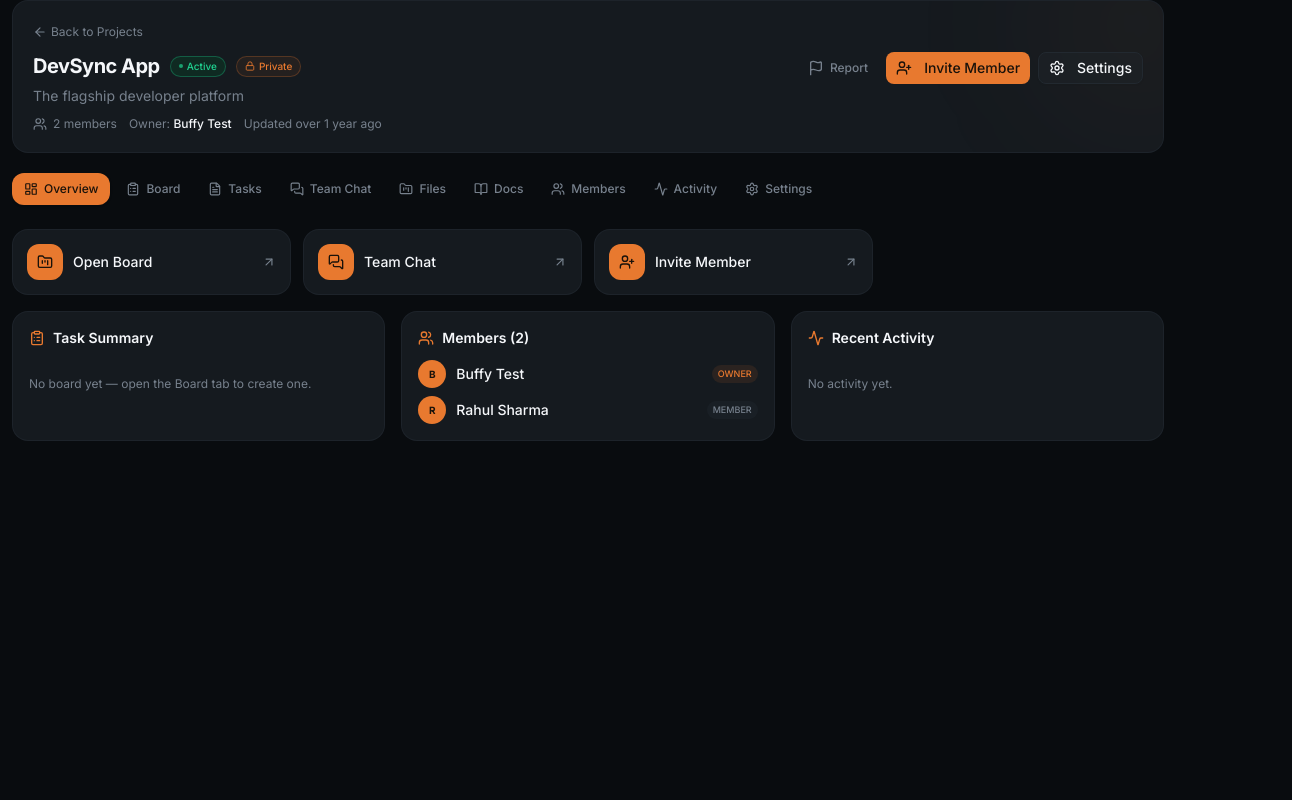
Test: ProjectWorkspace › shows the member action menu to the owner on non-owner rows only
Expected: the heading "DevSync App" is shown, [33, 52, 160, 80]
Click the button "Members". click: (588, 189)
box: [539, 173, 638, 205]
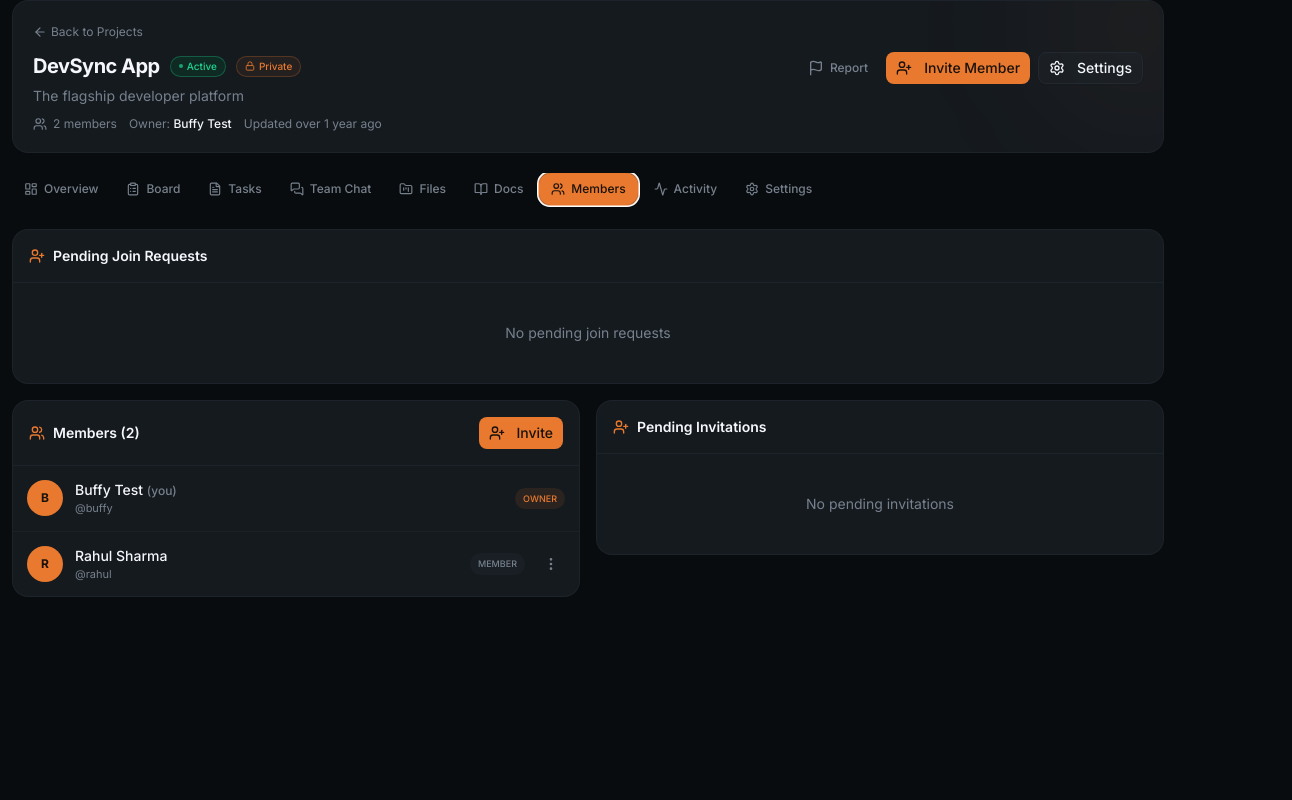
Result: the number of buttons named "Member actions" is 1 at [537, 550, 565, 578]
